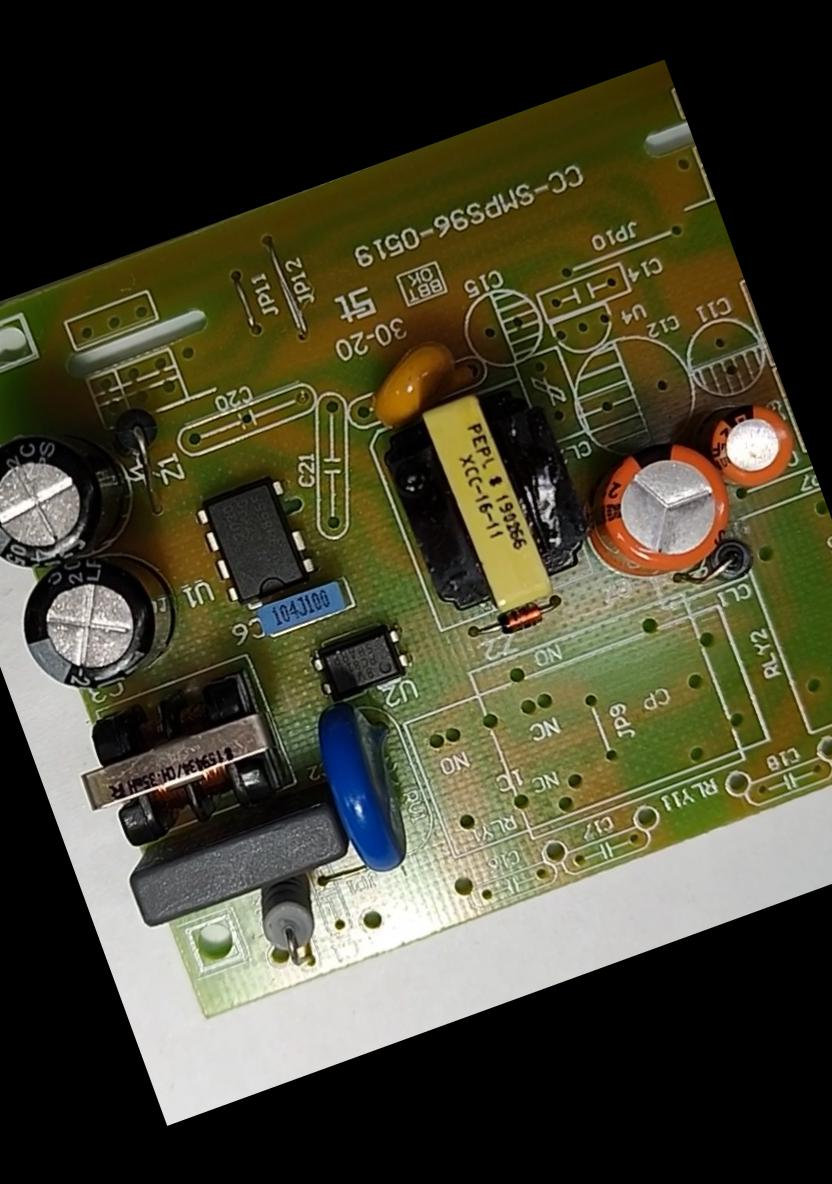Cap1: (561, 418, 754, 602)
Cap2: (682, 387, 810, 510)
Cap3: (1, 532, 209, 724)
Cap4: (0, 394, 157, 597)
MOSFET: (186, 464, 325, 620)
Mov: (292, 681, 440, 889)
Resistor: (246, 872, 344, 978)
Transformer: (356, 358, 608, 640), (53, 653, 298, 868)
